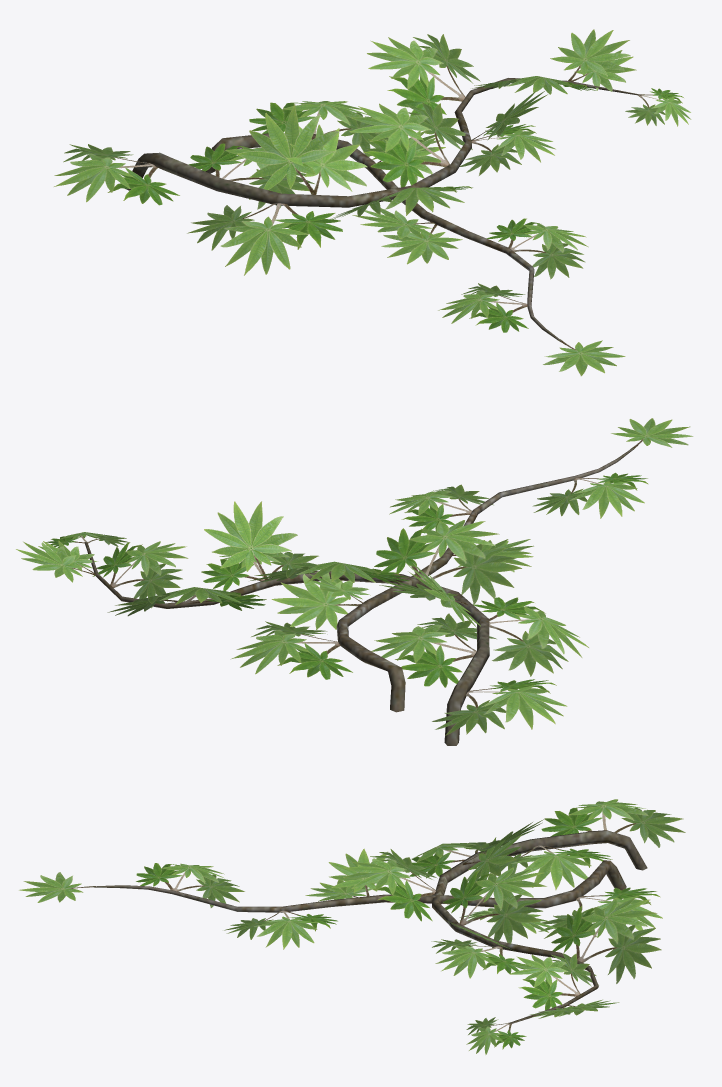
The model's file is SM_vine_d.fbx.
3 views of the same model, one above another, from view 1: azimuth 30°, elevation 25°; view 2: azimuth 150°, elevation 25°; view 3: azimuth 270°, elevation 25° (orthographic). The views are drawn at different scales.
Visible parts, largest first — view 1: SM_vine_geo_4, SM_vine_leaf_card_large95, SM_vine_leaf_card_large103, SM_vine_leaf_card_large104, SM_vine_leaf_card_small39, SM_vine_leaf_card_large94, SM_vine_leaf_card_large106, SM_vine_leaf_card_large105, SM_vine_leaf_card_large107, SM_vine_leaf_card_large98, SM_vine_leaf_card_small35, SM_vine_leaf_card_small38 (+9 smaller); view 2: SM_vine_geo_4, SM_vine_leaf_card_large96, SM_vine_leaf_card_large95, SM_vine_leaf_card_large101, SM_vine_leaf_card_large94, SM_vine_leaf_card_large105, SM_vine_leaf_card_small37, SM_vine_leaf_card_large99, SM_vine_leaf_card_large107, SM_vine_leaf_card_small43, SM_vine_leaf_card_large106, SM_vine_leaf_card_large104 (+7 smaller); view 3: SM_vine_geo_4, SM_vine_leaf_card_large104, SM_vine_leaf_card_large103, SM_vine_leaf_card_large94, SM_vine_leaf_card_large96, SM_vine_leaf_card_large99, SM_vine_leaf_card_large101, SM_vine_leaf_card_large107, SM_vine_leaf_card_large106, SM_vine_leaf_card_large98, SM_vine_leaf_card_large105, SM_vine_leaf_card_large95 (+5 smaller).
Boxes of the visible parts, x1,y1,x2,y2 form: SM_vine_geo_4: (125, 78, 641, 341); SM_vine_leaf_card_large95: (187, 203, 342, 275); SM_vine_leaf_card_large103: (349, 102, 472, 187); SM_vine_leaf_card_large104: (367, 34, 480, 116); SM_vine_leaf_card_small39: (237, 104, 338, 194); SM_vine_leaf_card_large94: (54, 144, 179, 205); SM_vine_leaf_card_large106: (487, 218, 588, 279); SM_vine_leaf_card_large105: (249, 101, 388, 157); SM_vine_leaf_card_large107: (438, 283, 528, 332); SM_vine_leaf_card_large98: (459, 124, 555, 175); SM_vine_leaf_card_small35: (550, 29, 630, 80); SM_vine_leaf_card_small38: (286, 124, 367, 194); SM_vine_geo_4: (84, 447, 634, 745); SM_vine_leaf_card_large96: (374, 520, 521, 604); SM_vine_leaf_card_large95: (473, 597, 588, 676); SM_vine_leaf_card_large101: (371, 613, 496, 687); SM_vine_leaf_card_large94: (432, 679, 567, 735); SM_vine_leaf_card_large105: (230, 621, 352, 679); SM_vine_leaf_card_small37: (204, 501, 297, 579); SM_vine_leaf_card_large99: (92, 541, 188, 608); SM_vine_leaf_card_large107: (532, 472, 648, 518); SM_vine_leaf_card_small43: (271, 572, 360, 629); SM_vine_leaf_card_large106: (389, 484, 493, 533); SM_vine_leaf_card_large104: (107, 587, 266, 616); SM_vine_geo_4: (92, 830, 647, 1024); SM_vine_leaf_card_large104: (551, 897, 661, 983); SM_vine_leaf_card_large103: (443, 867, 546, 947); SM_vine_leaf_card_large94: (541, 799, 685, 847); SM_vine_leaf_card_large96: (341, 849, 437, 921); SM_vine_leaf_card_large99: (509, 953, 598, 1010); SM_vine_leaf_card_large101: (473, 845, 612, 890); SM_vine_leaf_card_large107: (136, 863, 244, 907); SM_vine_leaf_card_large106: (224, 910, 337, 949); SM_vine_leaf_card_large98: (431, 939, 525, 978); SM_vine_leaf_card_large105: (538, 887, 662, 938); SM_vine_leaf_card_large95: (403, 842, 515, 878).
Size of the model in its own units: 99.51 by 20.7 by 112.
